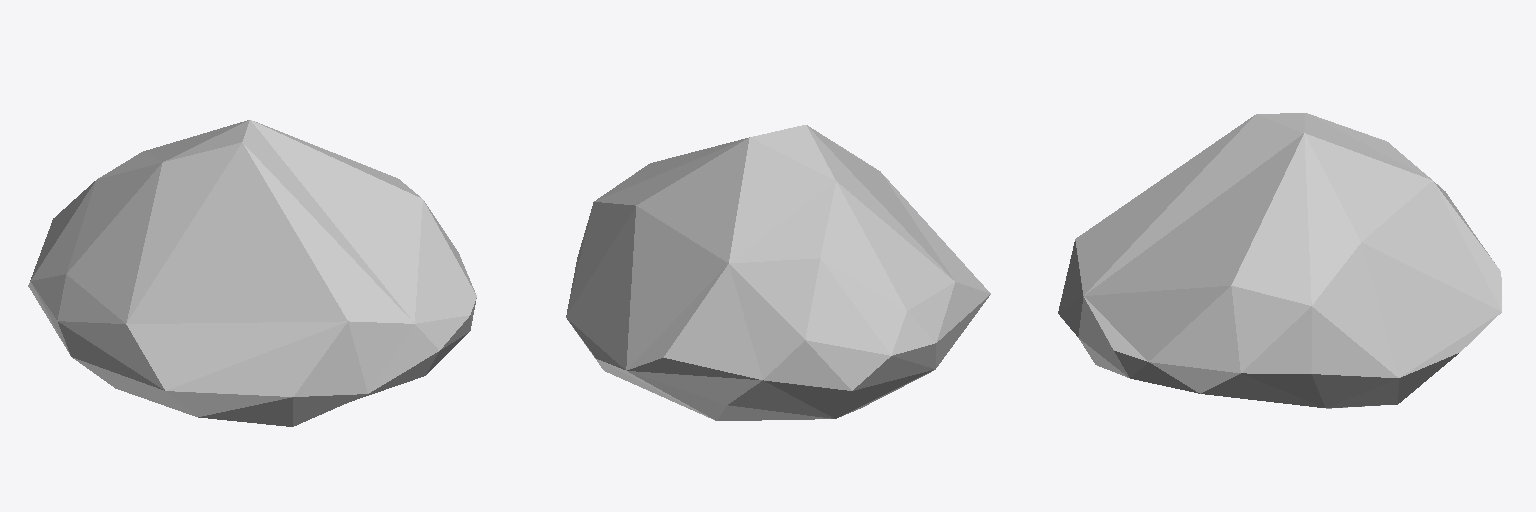
Rendered from Stone.obj.
The picture shows the model from 3 angles: view 1: azimuth 30°, elevation 25°; view 2: azimuth 150°, elevation 25°; view 3: azimuth 270°, elevation 25°; orthographic projection.
Visible parts, largest first — view 1: Stone; view 2: Stone; view 3: Stone.
Part boxes in pixels (left/top/right/bottom): Stone: left=28, top=120, right=476, bottom=426; Stone: left=566, top=125, right=990, bottom=420; Stone: left=1058, top=113, right=1501, bottom=408.
Bounding box in the file's own units: 5.72 × 3.84 × 5.99.